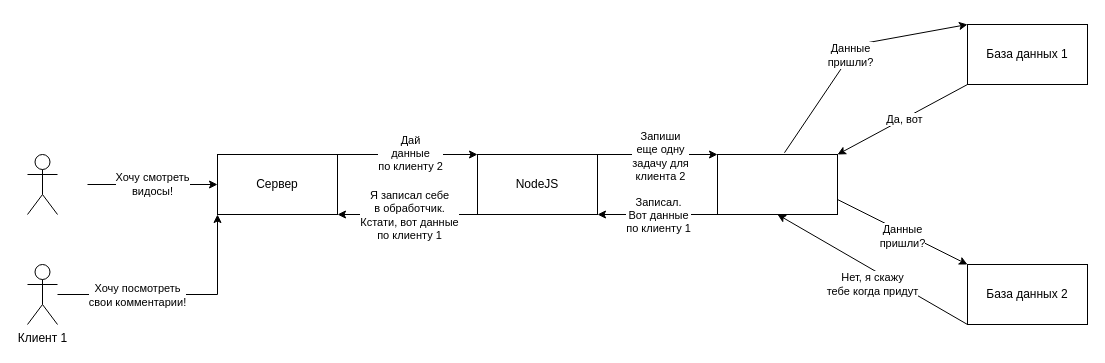
This 1105x363 diagram has some shape labels left out. The shapes that lost their labels are listed below. From the top down, each one's centre as x and y in pixels, then its label:
(42,184): Клиент 2
(777,184): Очередь
